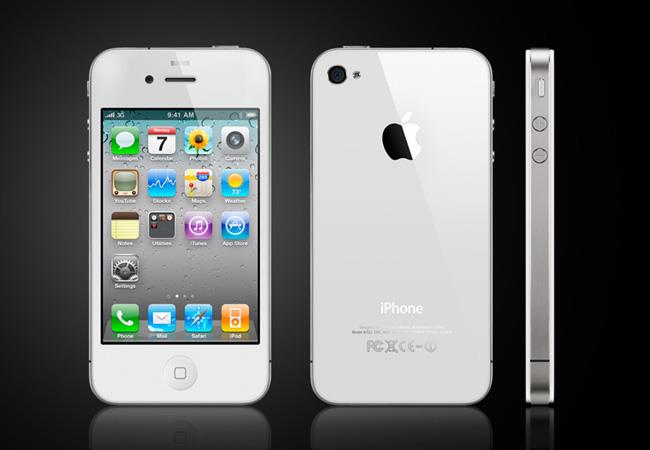iphone: (85, 41, 274, 400)
